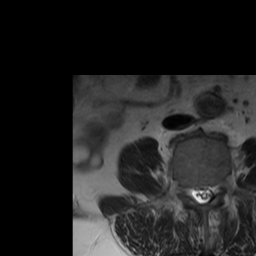CCS_normal: (199, 179, 206, 211)
LFS_normal: (214, 178, 221, 199)
LLS_normal: (207, 179, 213, 207)
RFS_normal: (184, 180, 191, 201)
RLS_normal: (191, 179, 198, 205)
